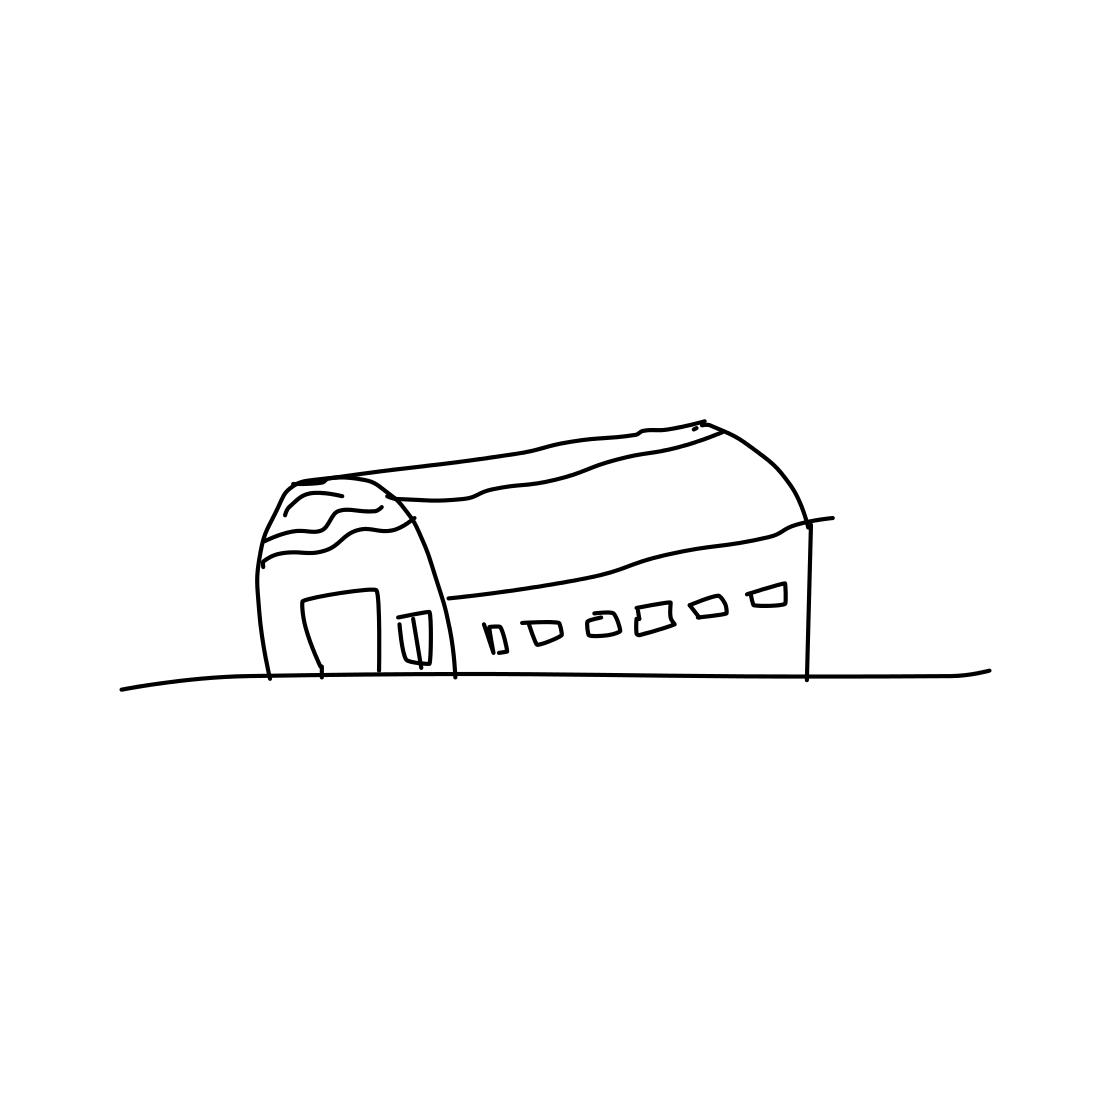House: (229, 395, 845, 697)
